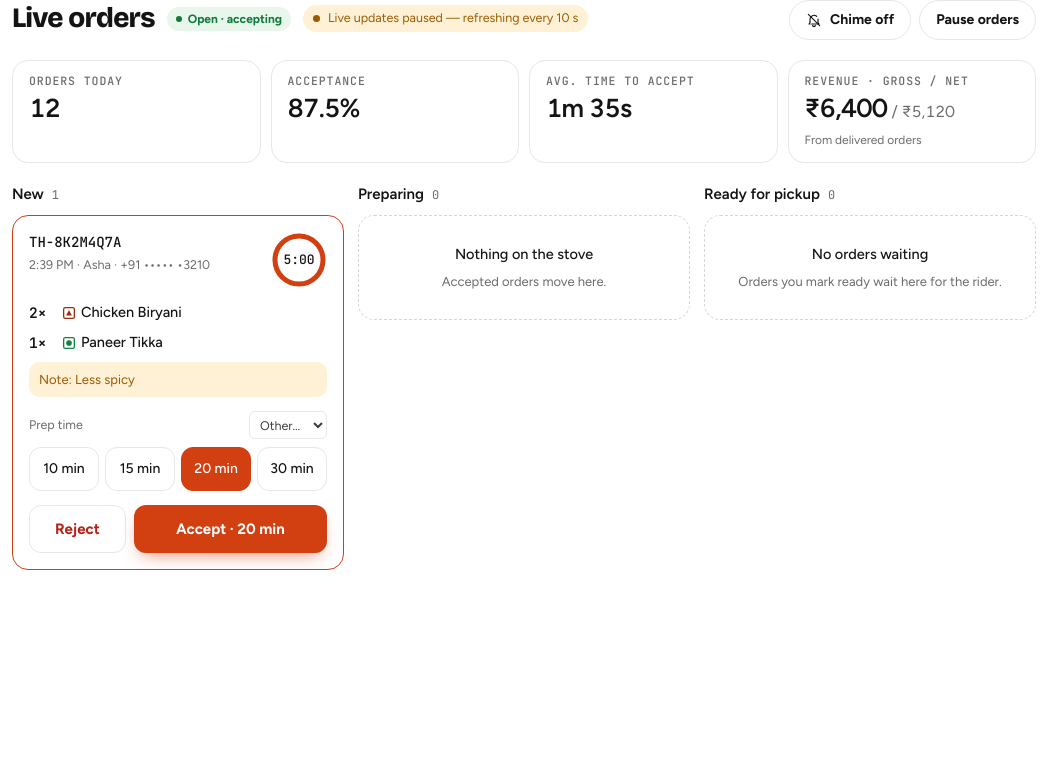
Scenario: OrdersBoard (board 20) › Chime on: a click unlocks audio and plays a test chime; a new order afterwards chimes and is announced
The image size is (1048, 768).
Expected: the list item with aria-label "New order TH-8K2M4Q7A" is shown, [12, 215, 344, 570]
Click the button "Chime off": (850, 20) [789, 0, 911, 40]
(page scrolled)
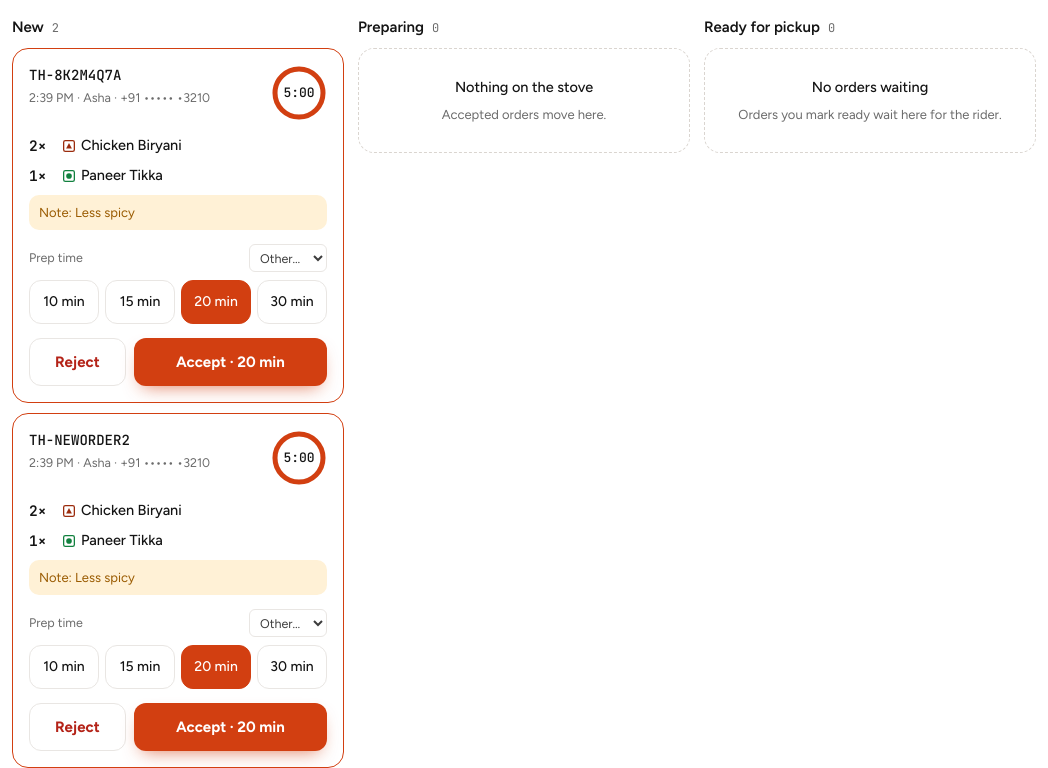
Now the list item with aria-label "New order TH-NEWORDER2" is shown, box [12, 413, 344, 767]
